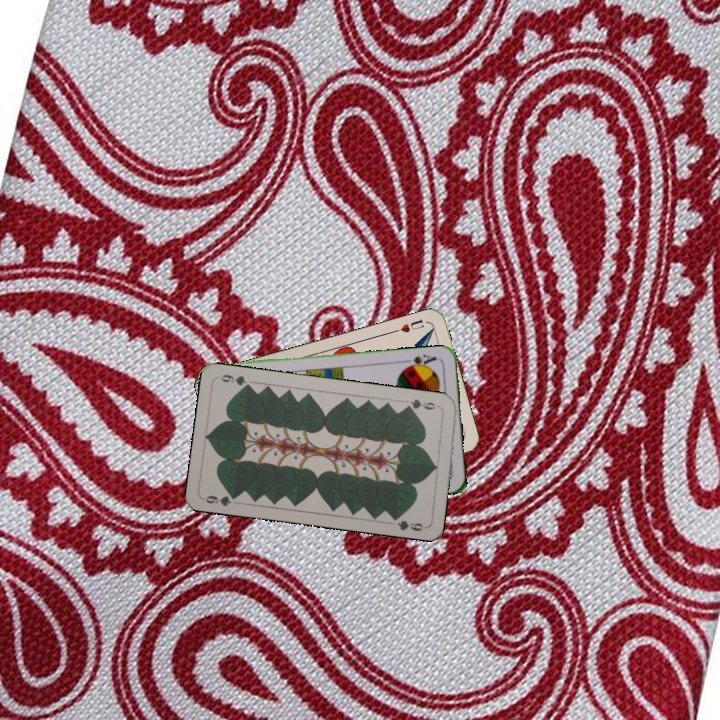G9: (200, 490, 241, 509), (402, 395, 438, 412)
HU: (390, 315, 427, 335)
SA: (400, 350, 439, 371)
